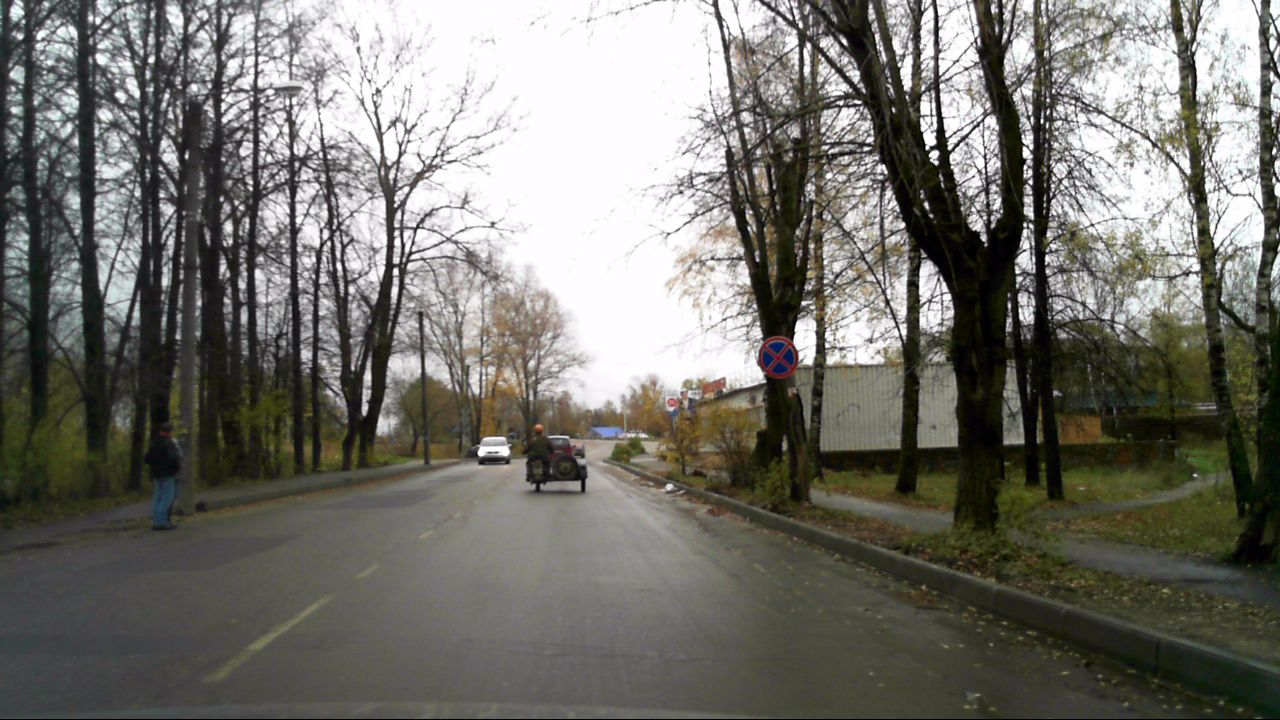No Parking: (755, 334, 798, 380)
